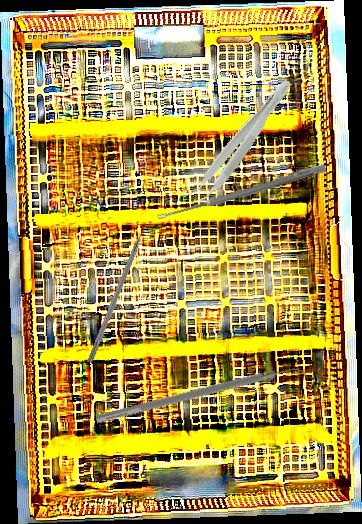Hook Surgical: (86, 218, 152, 365)
Spatula Surgical: (95, 359, 307, 434)
Surgical Spoon: (156, 162, 327, 223)
Tissue Forceps: (182, 71, 297, 212)
